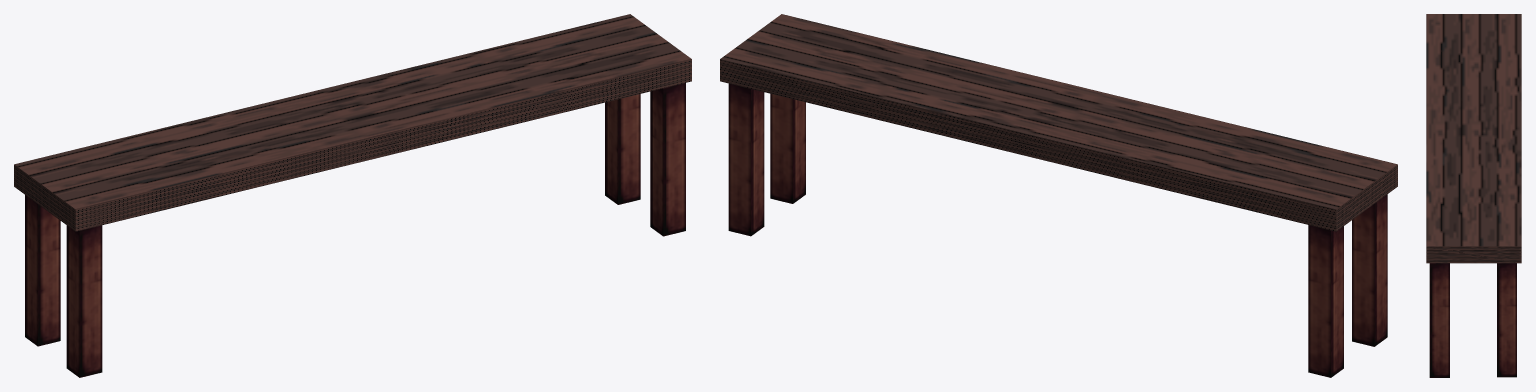
Rendered from bench.glb.
3 renders of one model, left to right at view 1: azimuth 30°, elevation 25°; view 2: azimuth 150°, elevation 25°; view 3: azimuth 270°, elevation 25°, orthographic. The views are drawn at different scales.
Parts seen in each view (by area): view 1: Cube.004, Cube.002, Cube.001, Cube.006, Cube.003; view 2: Cube.004, Cube.003, Cube.006, Cube.002, Cube.001; view 3: Cube.004, Cube.001, Cube.003.
Boxes of the visible parts, left/top/right/bottom form: Cube.004: left=14, top=14, right=691, bottom=231; Cube.002: left=66, top=225, right=102, bottom=377; Cube.001: left=650, top=83, right=685, bottom=236; Cube.006: left=25, top=195, right=60, bottom=346; Cube.003: left=605, top=94, right=640, bottom=204; Cube.004: left=720, top=14, right=1397, bottom=231; Cube.003: left=728, top=83, right=764, bottom=236; Cube.006: left=1308, top=225, right=1343, bottom=377; Cube.002: left=1352, top=194, right=1387, bottom=346; Cube.001: left=770, top=93, right=805, bottom=203; Cube.004: left=1426, top=14, right=1521, bottom=263; Cube.001: left=1429, top=263, right=1449, bottom=377; Cube.003: left=1497, top=263, right=1516, bottom=377.
Bounding box in the file's own units: 1.09 × 0.2916 × 0.1887.
5 materials, 5 textured.
